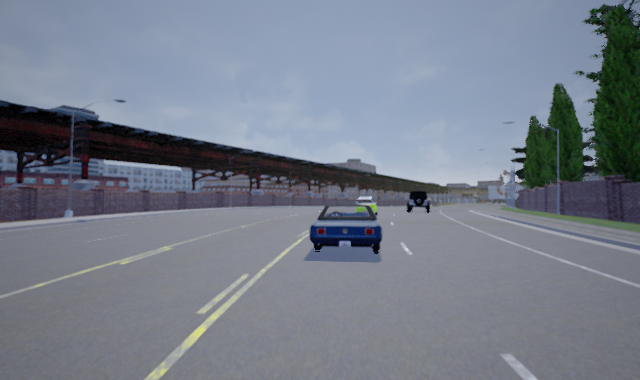vehicle: (307, 200, 383, 260), (352, 196, 378, 218), (406, 190, 430, 212)
